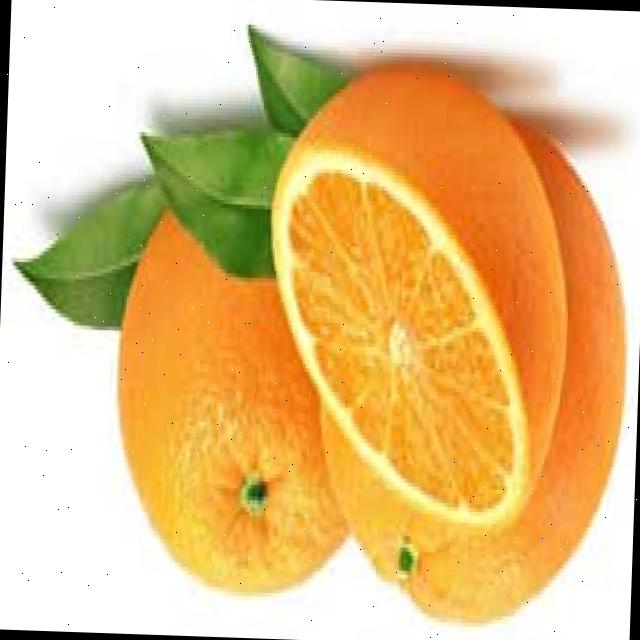Jeruk: (258, 60, 576, 538), (109, 208, 360, 602)
